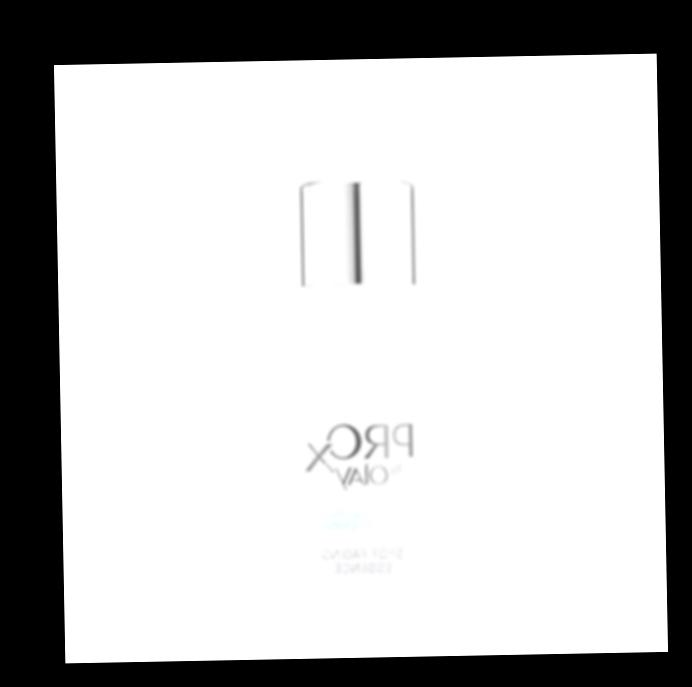cosmetic: (273, 90, 438, 619)
